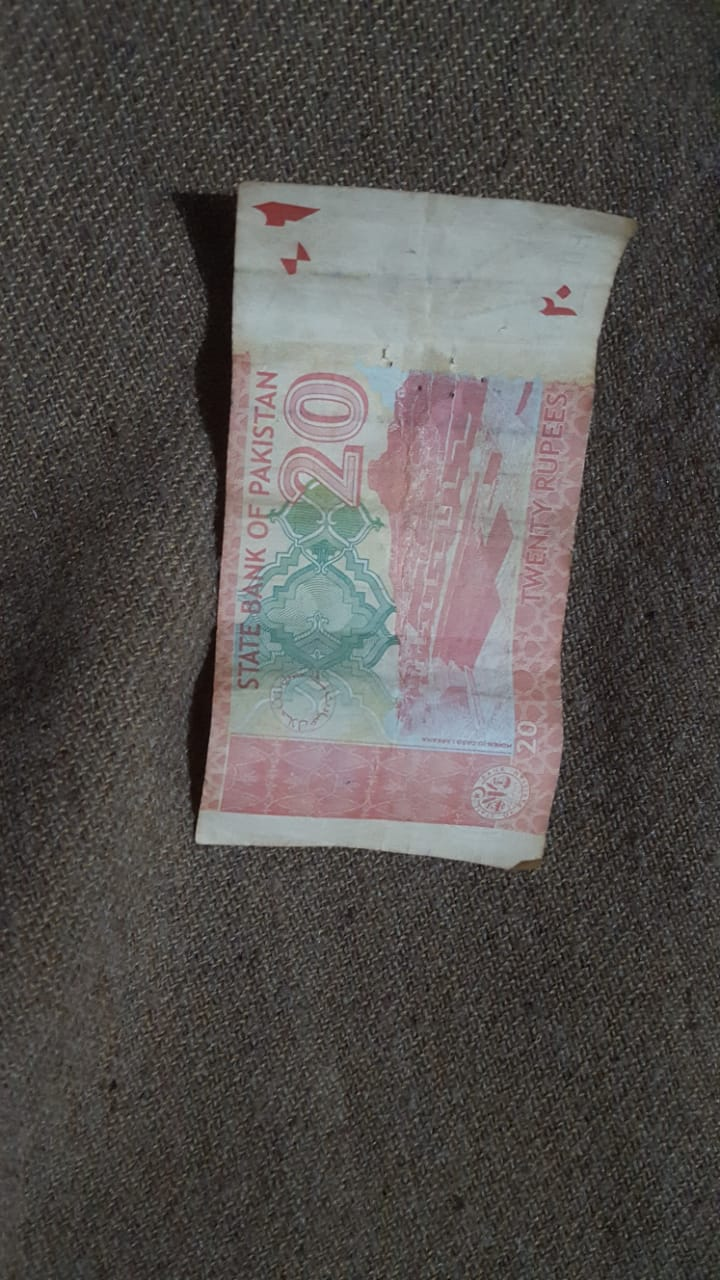20 rupee: (202, 166, 630, 904)
